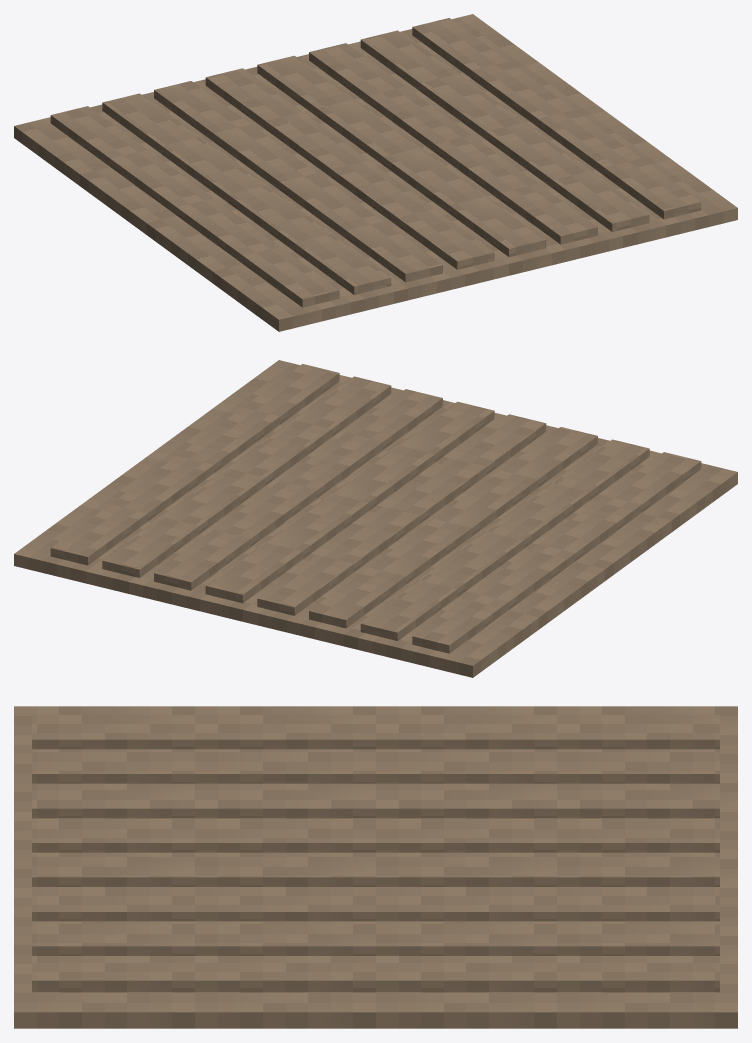
Rendered from pixel-modern-farm-soil-tile-ploughed-d565505b__29076.glb.
3 views of the same model, one above another, from view 1: azimuth 30°, elevation 25°; view 2: azimuth 150°, elevation 25°; view 3: azimuth 270°, elevation 25° (orthographic). The views are drawn at different scales.
Visible parts, largest first — view 1: soil-tile-ploughed; view 2: soil-tile-ploughed; view 3: soil-tile-ploughed.
Part boxes in pixels (<box>): soil-tile-ploughed: <box>14,14,737,331</box>; soil-tile-ploughed: <box>14,360,737,677</box>; soil-tile-ploughed: <box>14,706,737,1028</box>.
Size of the model in its own units: 4 by 0.1699 by 4.
Materials: 1 (1 with a texture image).
